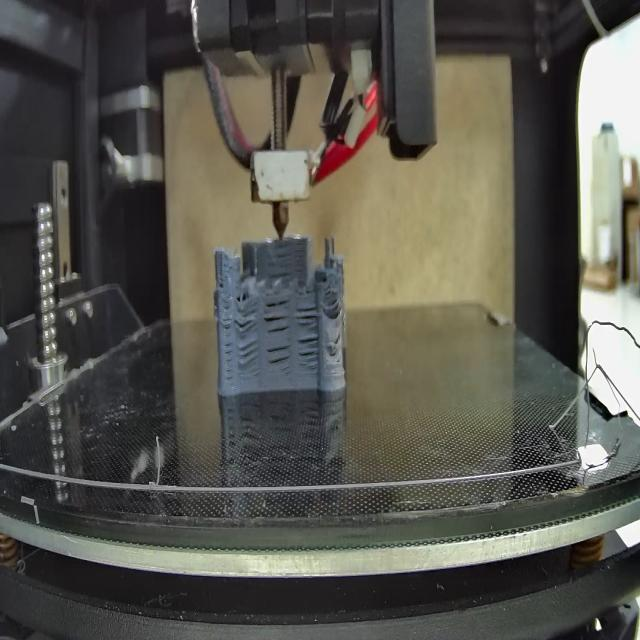cracks: (222, 304, 236, 388), (262, 299, 290, 336), (265, 343, 293, 379), (265, 250, 300, 278), (297, 334, 319, 372), (294, 302, 320, 327), (238, 341, 260, 365), (236, 308, 256, 333), (325, 295, 341, 317), (328, 329, 339, 360), (215, 274, 226, 295)
